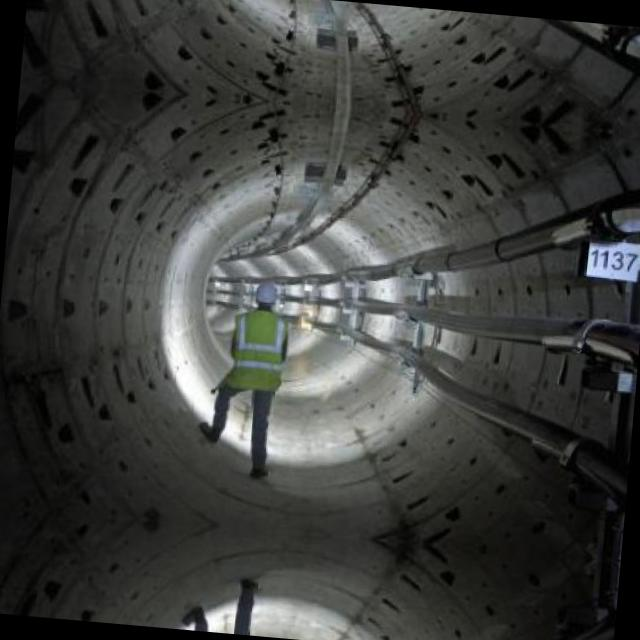helmet: (250, 277, 280, 313)
